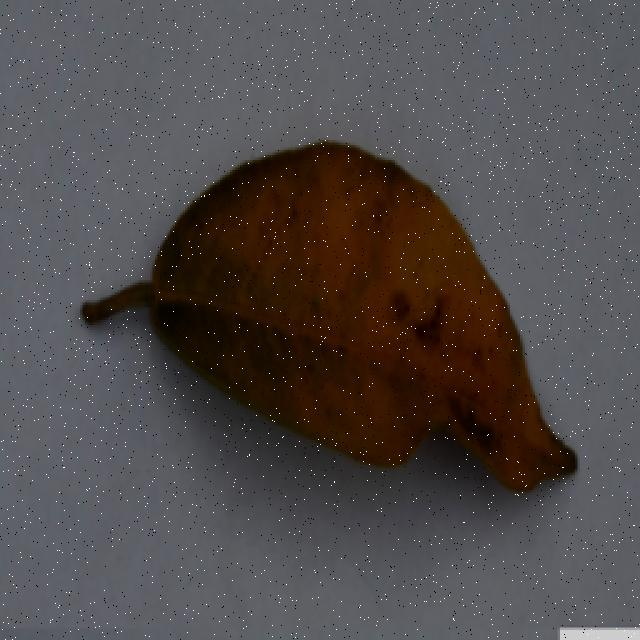blackspot: (66, 123, 590, 497)
